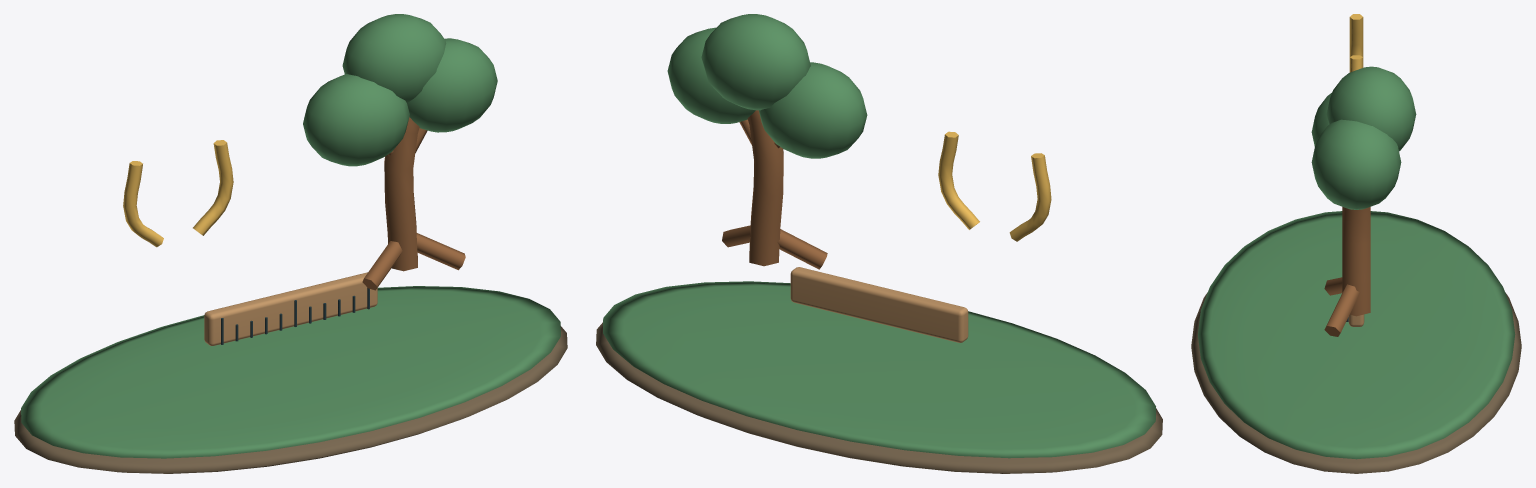
The model's file is complete-first-meter-tree-measure.glb.
The picture shows the model from 3 angles, left to right: view 1: azimuth 30°, elevation 25°; view 2: azimuth 150°, elevation 25°; view 3: azimuth 270°, elevation 25°; orthographic projection. The views are drawn at different scales.
Visible parts, largest first — view 1: complete-first-meter-tree-measure_surface_01, complete-first-meter-tree-measure_surface_00, complete-first-meter-tree-measure_surface_04, complete-first-meter-tree-measure_surface_03, complete-first-meter-tree-measure_surface_02, complete-first-meter-tree-measure_surface_05; view 2: complete-first-meter-tree-measure_surface_01, complete-first-meter-tree-measure_surface_00, complete-first-meter-tree-measure_surface_04, complete-first-meter-tree-measure_surface_03, complete-first-meter-tree-measure_surface_02; view 3: complete-first-meter-tree-measure_surface_01, complete-first-meter-tree-measure_surface_00, complete-first-meter-tree-measure_surface_03, complete-first-meter-tree-measure_surface_02.
Boxes of the visible parts, bbox=[...] form: complete-first-meter-tree-measure_surface_01: bbox=[21, 14, 560, 458]; complete-first-meter-tree-measure_surface_00: bbox=[14, 326, 567, 473]; complete-first-meter-tree-measure_surface_04: bbox=[204, 272, 377, 345]; complete-first-meter-tree-measure_surface_03: bbox=[362, 117, 465, 290]; complete-first-meter-tree-measure_surface_02: bbox=[123, 140, 233, 247]; complete-first-meter-tree-measure_surface_05: bbox=[221, 288, 369, 344]; complete-first-meter-tree-measure_surface_01: bbox=[603, 14, 1155, 458]; complete-first-meter-tree-measure_surface_00: bbox=[596, 322, 1162, 473]; complete-first-meter-tree-measure_surface_04: bbox=[790, 267, 968, 342]; complete-first-meter-tree-measure_surface_03: bbox=[722, 110, 827, 269]; complete-first-meter-tree-measure_surface_02: bbox=[938, 131, 1051, 241]; complete-first-meter-tree-measure_surface_01: bbox=[1197, 66, 1515, 459]; complete-first-meter-tree-measure_surface_00: bbox=[1191, 292, 1521, 473]; complete-first-meter-tree-measure_surface_03: bbox=[1324, 207, 1370, 336]; complete-first-meter-tree-measure_surface_02: bbox=[1349, 14, 1363, 72].
Bounding box in the file's own units: 4.56 × 2.87 × 2.5.
